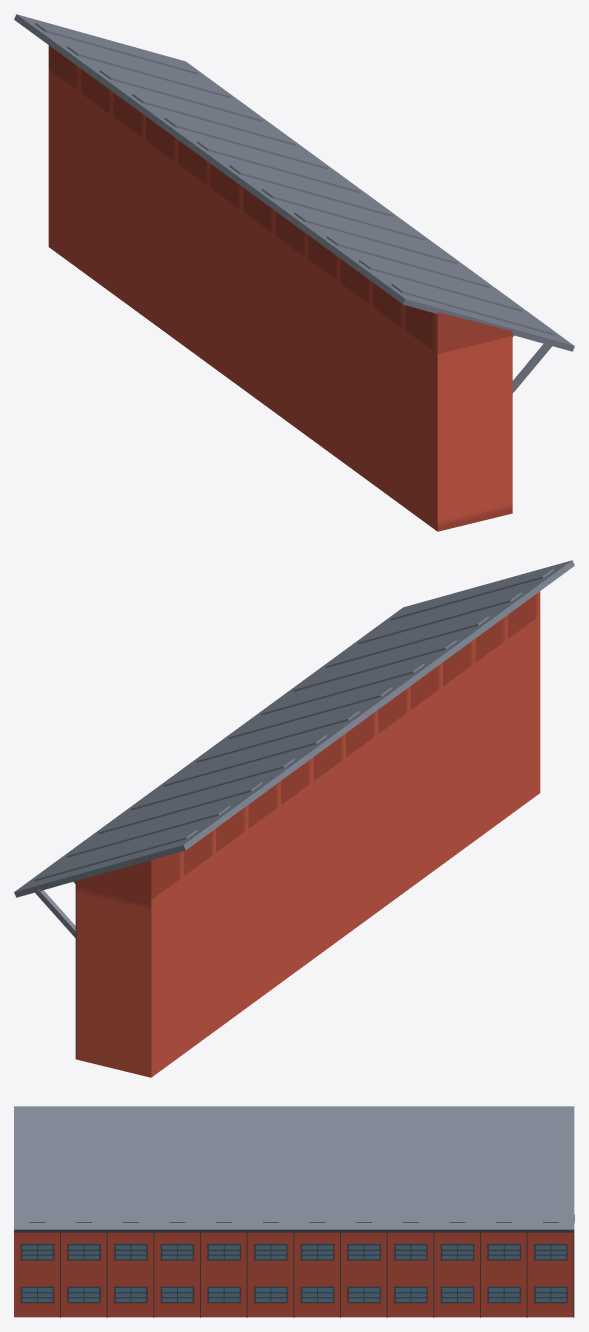
Rendered from building1_array.fbx.
The picture shows the model from 3 angles, top to bottom: view 1: azimuth 30°, elevation 25°; view 2: azimuth 150°, elevation 25°; view 3: azimuth 270°, elevation 25°; orthographic projection. The views are drawn at different scales.
Visible parts, largest first — view 1: Cube; view 2: Cube; view 3: Cube.
Part boxes in pixels (bbox=[...]): Cube: bbox=[14, 14, 574, 531]; Cube: bbox=[14, 560, 574, 1077]; Cube: bbox=[14, 1106, 574, 1317].
Bounding box in the file's own units: 6710 × 8978 × 26335.
